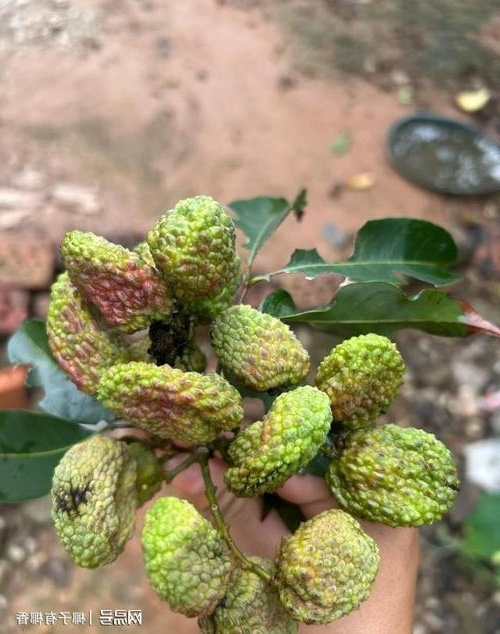Anthracnose: (196, 539, 362, 604), (68, 245, 168, 327), (39, 450, 125, 536), (133, 374, 242, 412), (241, 423, 290, 474)
